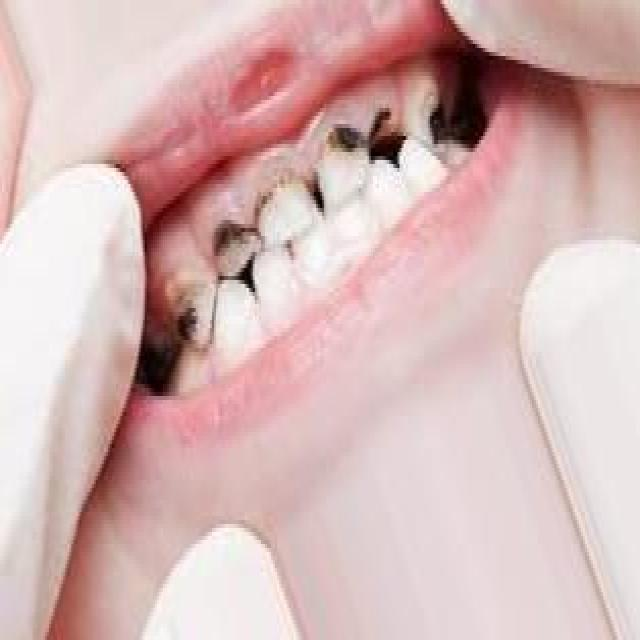caries: (165, 272, 225, 363), (412, 74, 457, 170), (318, 112, 365, 202), (210, 209, 260, 279), (253, 166, 300, 223), (360, 96, 397, 160)
